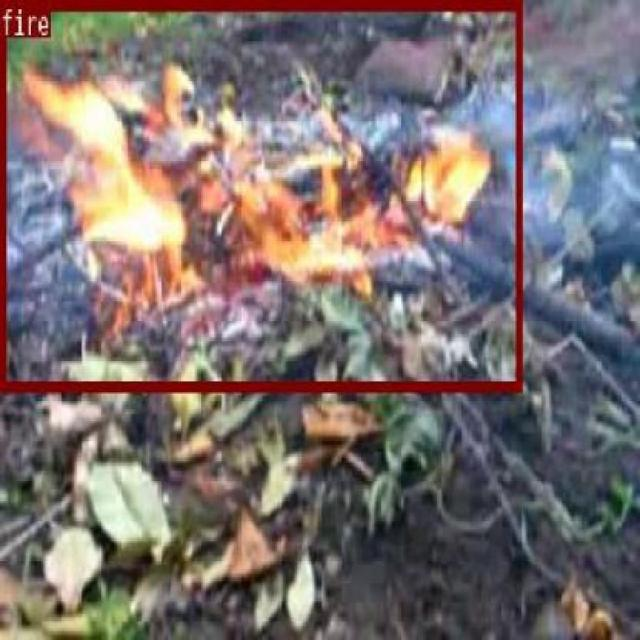Fire: (0, 0, 522, 388)
